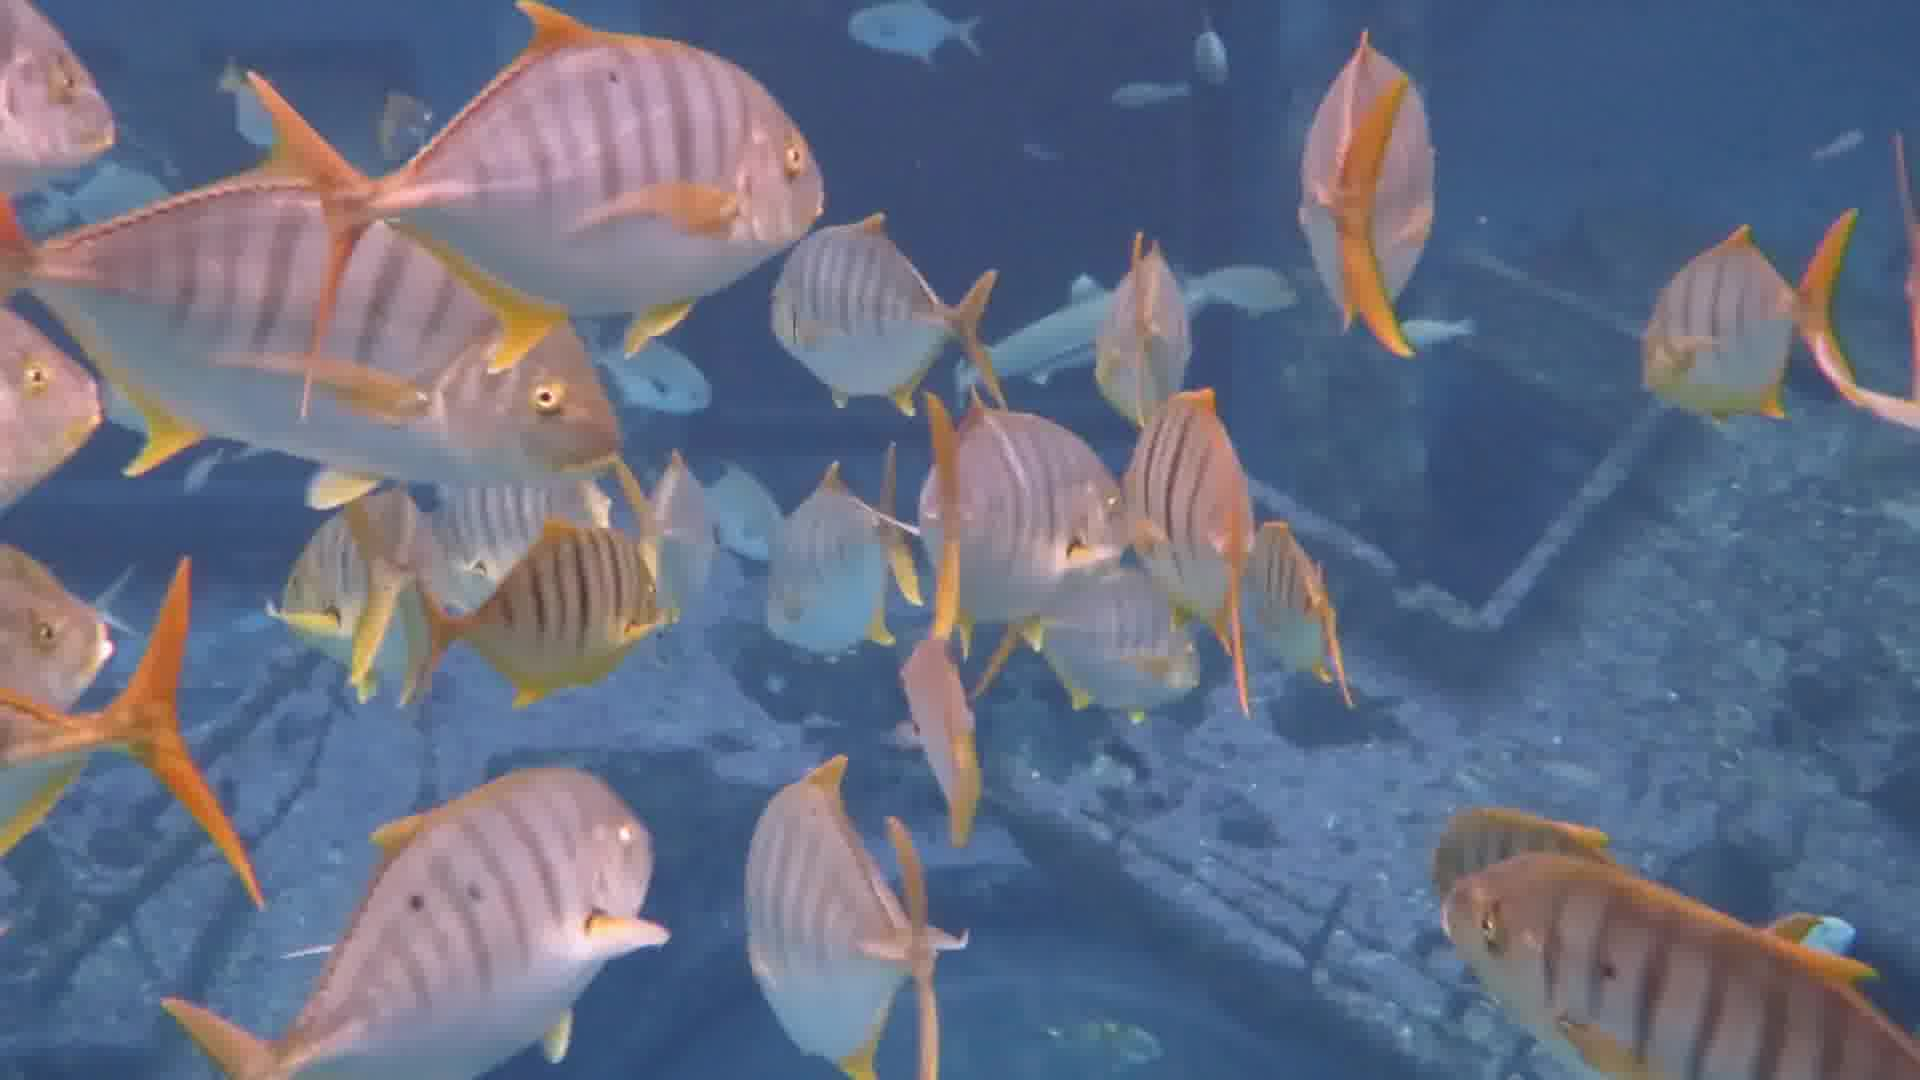Gnathanodon speciosus: (45, 146, 593, 498), (336, 36, 884, 324), (1403, 829, 1873, 1080), (253, 782, 691, 1044)
